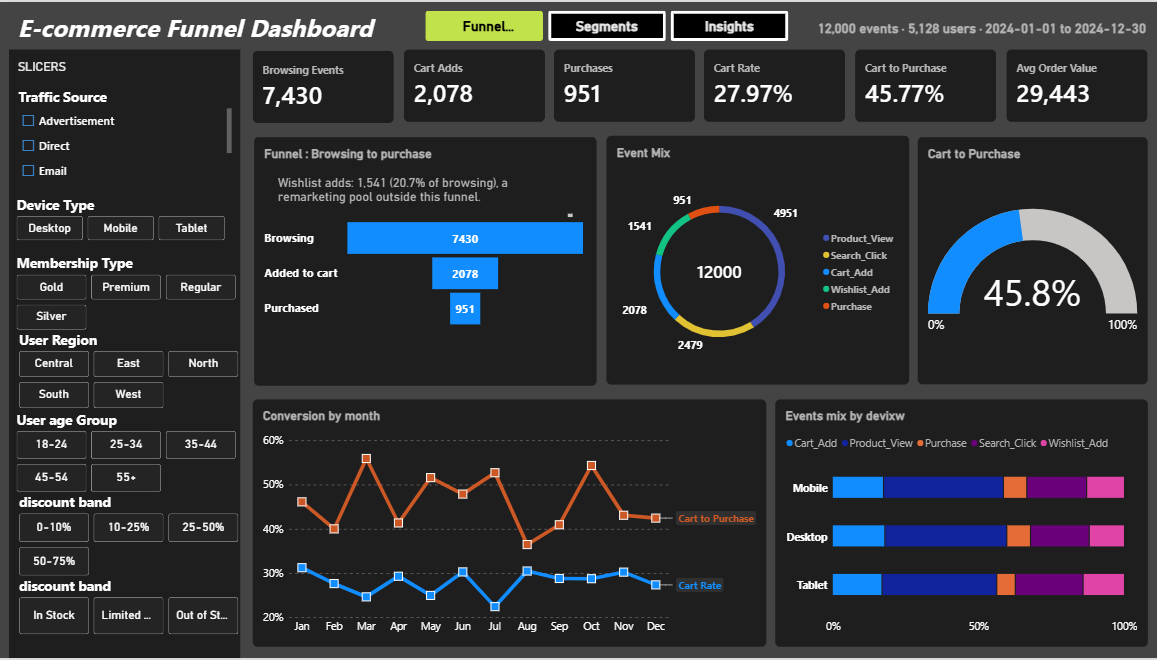

What the dashboard file says about the page in this screenshot:
{"tool":"powerbi","page":{"name":"Funnel Overview","canvas":[1920,1080],"ordinal":0},"visuals":[{"type":"shape","box":[16.5,78.2,380.8,1002.4],"z":0,"group":"g2"},{"type":"cardVisual","fields":{"Data":["Kpi Measure.-- Card 1: Browsing events (7,430)Browsing Events"]},"box":[417.8,80.3,232.6,119.4],"z":0},{"type":"funnel","title":"Funnel : Browsing to purchase","fields":{"Category":["FunnelStages.Stage"],"Y":["charts.Funnel Value"]},"box":[419.9,222.3,564,409.6],"z":0,"group":"g1"},{"type":"cardVisual","fields":{"Data":["Kpi Measure.-- Card 2: Cart adds (2,078)Cart Adds"]},"box":[666.9,78.2,232.6,119.4],"z":1000},{"type":"textbox","title":"SLICERS","box":[30.9,94.7,107,28.8],"z":1000,"group":"g2"},{"type":"textbox","title":"Wishlist adds: 1,541 (20.7% of browsing), a remarketing pool outside this funnel.","box":[459,286.1,485.8,67.9],"z":1000,"group":"g1"},{"type":"cardVisual","fields":{"Data":["Kpi Measure.-- Card 3: Purchases (951)Purchases"]},"box":[913.9,78.2,232.6,119.4],"z":2000},{"type":"slicer","title":"Traffic Source","fields":{"Values":["ecommerce dataset.Traffic_Source"]},"box":[24.7,139.9,358.1,158.5],"z":2000,"group":"g2"},{"type":"cardVisual","fields":{"Data":["Kpi Measure.card 4: Cart Rate"]},"box":[1160.9,78.2,232.6,119.4],"z":3000},{"type":"advancedSlicerVisual","title":"Membership Type","fields":{"Values":["ecommerce dataset.Membership_Type"]},"box":[26.8,413.7,370.5,125.6],"z":3000,"group":"g2"},{"type":"cardVisual","fields":{"Data":["Kpi Measure.-- Card 5: Cart to purchase (45.8%)Cart to Purchase Rate"]},"box":[1410,78.2,232.6,119.4],"z":4000},{"type":"advancedSlicerVisual","title":"User Region","fields":{"Values":["ecommerce dataset.User_Region"]},"box":[30.9,539.3,370.5,129.7],"z":4000,"group":"g2"},{"type":"cardVisual","fields":{"Data":["Kpi Measure.-- Card 6: Avg order value (29,443)Avg Order Value"]},"box":[1659,78.2,232.6,119.4],"z":5000},{"type":"advancedSlicerVisual","title":"User age Group","fields":{"Values":["ecommerce dataset.User_Age_Group"]},"box":[26.8,671,370.5,135.8],"z":5000,"group":"g2"},{"type":"group","id":"g1","title":"Group 1","box":[419.9,222.3,564,409.6],"z":6000},{"type":"advancedSlicerVisual","title":"discount band","fields":{"Values":["ecommerce dataset.Discount_Band"]},"box":[30.9,806.8,370.5,137.9],"z":6000,"group":"g2"},{"type":"group","id":"g2","title":"Group 2","box":[16.5,78.2,384.9,1002.4],"z":7000},{"type":"advancedSlicerVisual","title":"discount band","fields":{"Values":["ecommerce dataset.Stock_Status"]},"box":[30.9,944.8,370.5,96.7],"z":7000,"group":"g2"},{"type":"donutChart","title":"Event Mix","fields":{"Category":["ecommerce dataset.Event_Type"],"Y":["CountNonNull(ecommerce dataset.Event_Type)"]},"box":[1000.3,220.2,498.1,409.6],"z":8000},{"type":"gauge","fields":{"Y":["Kpi Measure.Cart to Purchase"]},"box":[1512.9,222.3,378.7,407.5],"z":9000},{"type":"lineChart","title":"Conversion by month","fields":{"Category":["ecommerce dataset.Month_Name"],"Y":["Kpi Measure.Cart Rate","Kpi Measure.Cart to Purchase"]},"box":[417.8,654.5,846,407.5],"z":10000},{"type":"hundredPercentStackedBarChart","title":"Events mix by devixw","fields":{"Category":["ecommerce dataset.Device_Type"],"Series":["ecommerce dataset.Event_Type"],"Y":["CountNonNull(ecommerce dataset.Event_Type)"]},"box":[1278.2,654.5,613.4,407.5],"z":11000},{"type":"textbox","title":"E-commerce Funnel Dashboard","box":[30.9,14.4,619.6,63.8],"z":12000},{"type":"textbox","title":"12,000 events · 5,128 users · 2024-01-01 to 2024-12-30","box":[1348.2,30.9,557.8,32.9],"z":13000},{"type":"pageNavigator","box":[701.9,14.4,600,50],"z":13001},{"type":"advancedSlicerVisual","title":"Device Type","fields":{"Values":["ecommerce dataset.Device_Type"]},"box":[26.8,317,352,76.2],"z":14000,"group":"g2"}]}

Visuals, with their boxes in screenshot pixels (x1, y1, x2, y2), scaled from the page's 1920x1080 canvas onto the 1157x660 screenshot:
shape: pyautogui.locateOnScreen(10, 48, 239, 659)
cardVisual - Kpi Measure.-- Card 1: Browsing events (7,430)Browsing Events: pyautogui.locateOnScreen(252, 49, 392, 122)
"Funnel : Browsing to purchase" funnel: pyautogui.locateOnScreen(253, 136, 593, 386)
cardVisual - Kpi Measure.-- Card 2: Cart adds (2,078)Cart Adds: pyautogui.locateOnScreen(402, 48, 542, 121)
"SLICERS" textbox: pyautogui.locateOnScreen(19, 58, 83, 75)
"Wishlist adds: 1,541 (20.7% of browsing), a remarketing pool outside this funnel." textbox: pyautogui.locateOnScreen(277, 175, 569, 216)
cardVisual - Kpi Measure.-- Card 3: Purchases (951)Purchases: pyautogui.locateOnScreen(551, 48, 691, 121)
"Traffic Source" slicer: pyautogui.locateOnScreen(15, 85, 231, 182)
cardVisual - Kpi Measure.card 4: Cart Rate: pyautogui.locateOnScreen(700, 48, 840, 121)
"Membership Type" advancedSlicerVisual: pyautogui.locateOnScreen(16, 253, 239, 330)
cardVisual - Kpi Measure.-- Card 5: Cart to purchase (45.8%)Cart to Purchase Rate: pyautogui.locateOnScreen(850, 48, 990, 121)
"User Region" advancedSlicerVisual: pyautogui.locateOnScreen(19, 330, 242, 409)
cardVisual - Kpi Measure.-- Card 6: Avg order value (29,443)Avg Order Value: pyautogui.locateOnScreen(1000, 48, 1140, 121)
"User age Group" advancedSlicerVisual: pyautogui.locateOnScreen(16, 410, 239, 493)
"Group 1" group: pyautogui.locateOnScreen(253, 136, 593, 386)
"discount band" advancedSlicerVisual: pyautogui.locateOnScreen(19, 493, 242, 577)
"Group 2" group: pyautogui.locateOnScreen(10, 48, 242, 659)
"discount band" advancedSlicerVisual: pyautogui.locateOnScreen(19, 577, 242, 636)
"Event Mix" donutChart: pyautogui.locateOnScreen(603, 135, 903, 385)
gauge - Kpi Measure.Cart to Purchase: pyautogui.locateOnScreen(912, 136, 1140, 385)
"Conversion by month" lineChart: pyautogui.locateOnScreen(252, 400, 762, 649)
"Events mix by devixw" hundredPercentStackedBarChart: pyautogui.locateOnScreen(770, 400, 1140, 649)
"E-commerce Funnel Dashboard" textbox: pyautogui.locateOnScreen(19, 9, 392, 48)
"12,000 events · 5,128 users · 2024-01-01 to 2024-12-30" textbox: pyautogui.locateOnScreen(812, 19, 1149, 39)
pageNavigator: pyautogui.locateOnScreen(423, 9, 785, 39)
"Device Type" advancedSlicerVisual: pyautogui.locateOnScreen(16, 194, 228, 240)
